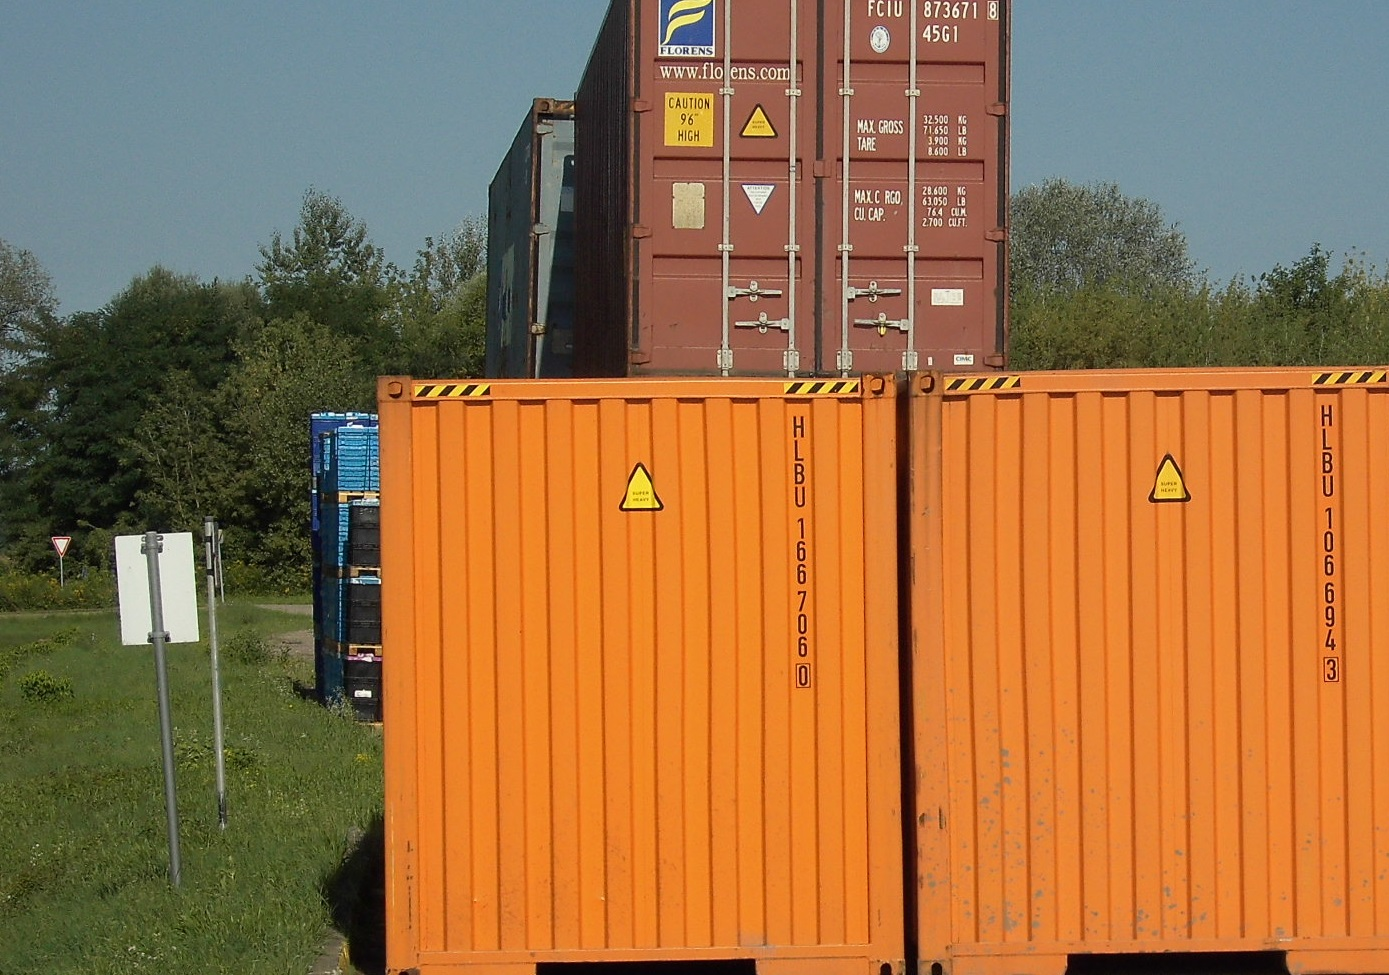container_door: (628, 1, 1014, 365)
container_no_door: (377, 375, 910, 975), (909, 365, 1388, 975)
